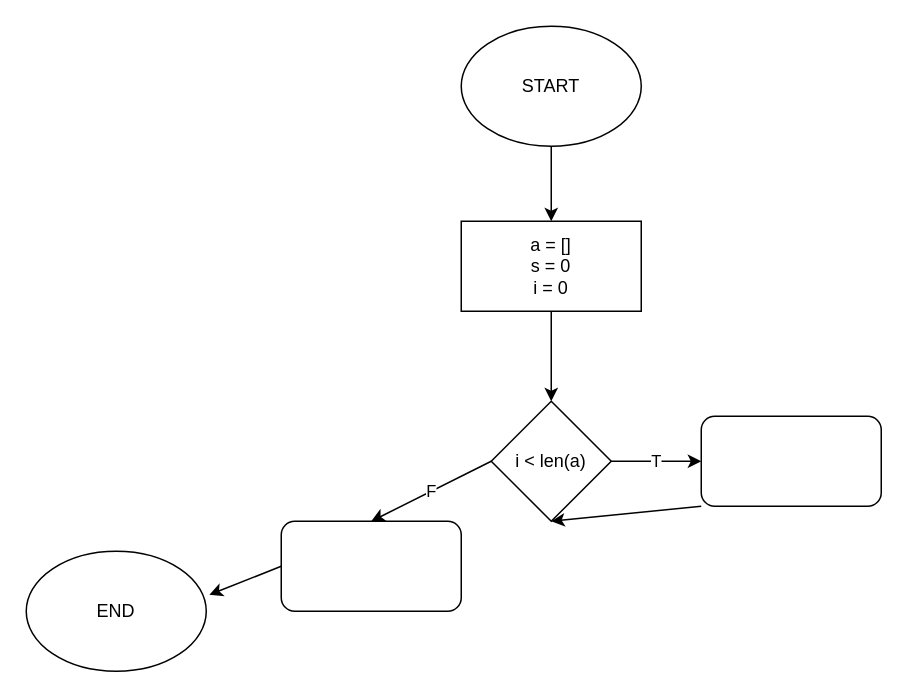
This 908x698 diagram has some shape labels left out. Each missing label, with the centre of its shape:
s += a[i] i += 1: point (790, 460)
Wypisz s: point (370, 565)
